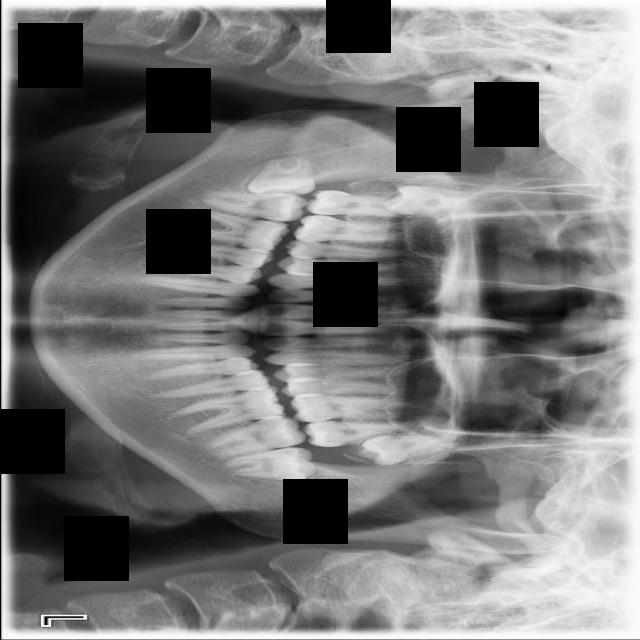3M ESPE Implant: (384, 182, 478, 223)
52: (259, 186, 307, 230), (289, 389, 339, 426), (292, 213, 344, 244), (303, 188, 352, 217), (300, 419, 347, 447)
73: (76, 605, 86, 614)
BioHorizons Implant: (301, 420, 405, 447)
BioLife Implant: (356, 426, 453, 470)
Biomet 3i Implant: (222, 444, 316, 491)
Blue Sky Bio Implant: (206, 410, 306, 462)
Caries: (303, 189, 405, 218)
Implant: (205, 189, 304, 222)
Keystone Dental Implant: (244, 154, 315, 199)
